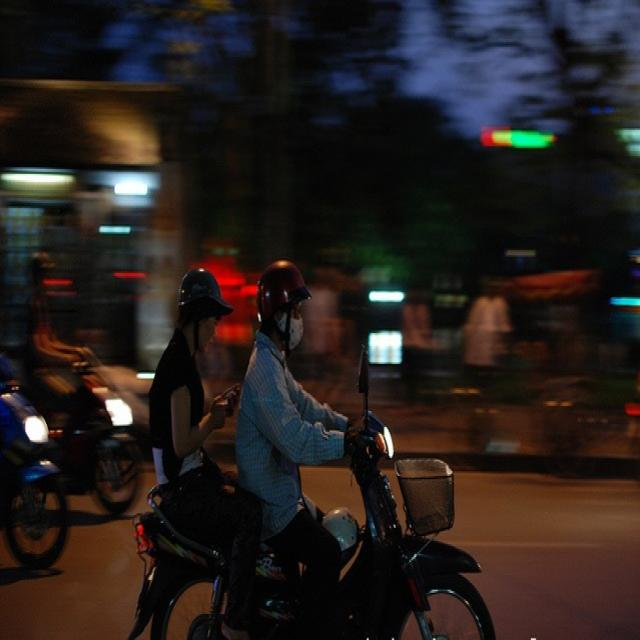Motorbike: (134, 347, 492, 640)
